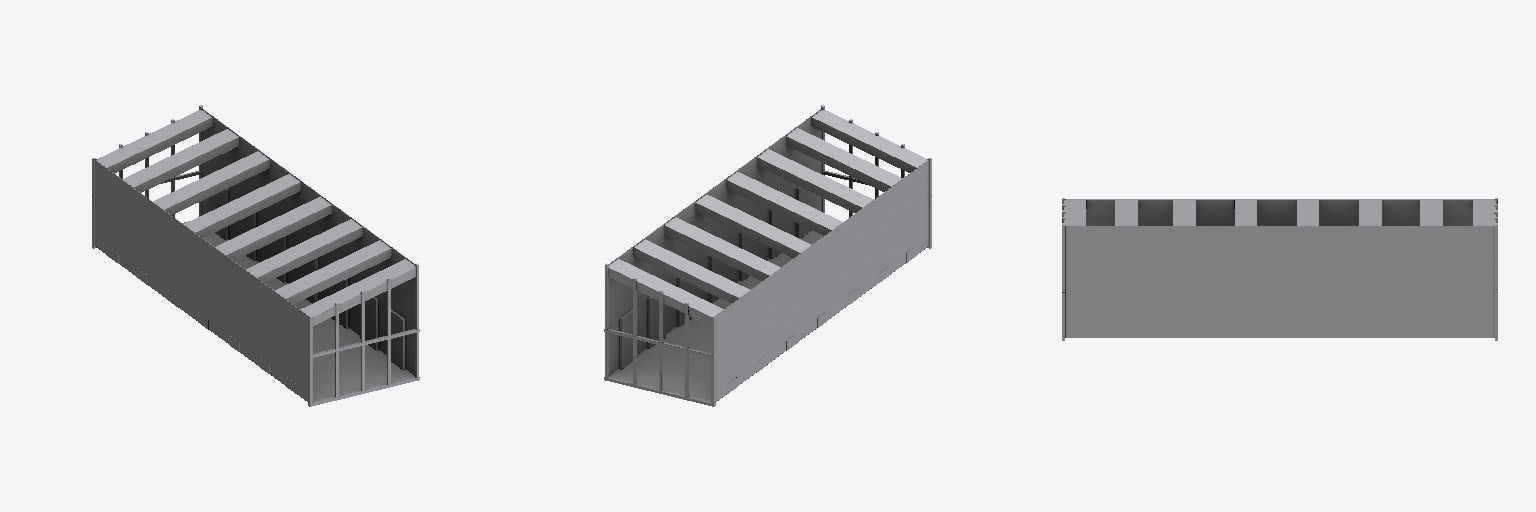
The picture shows the model from 3 angles: view 1: azimuth 30°, elevation 25°; view 2: azimuth 150°, elevation 25°; view 3: azimuth 270°, elevation 25°; orthographic projection.
Visible parts, largest first — view 1: Box019, Box020; view 2: Box019, Box020; view 3: Box019.
Part boxes in pixels (x1,y1,x2,y2): Box019: (92, 105, 419, 406); Box020: (108, 189, 404, 393); Box019: (604, 105, 931, 406); Box020: (620, 187, 916, 393); Box019: (1062, 198, 1497, 340).
Size of the model in its own units: 20.57 by 20.72 by 70.49.
2 materials, 2 textured.